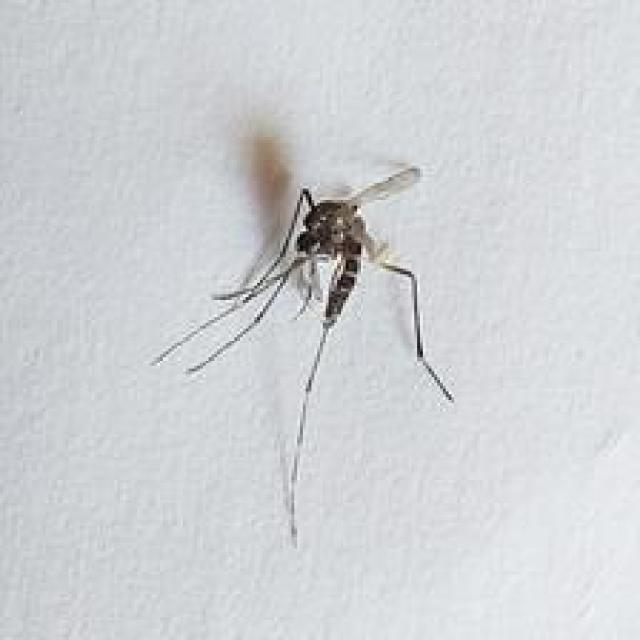Aedes albopictus: (150, 153, 456, 547)
